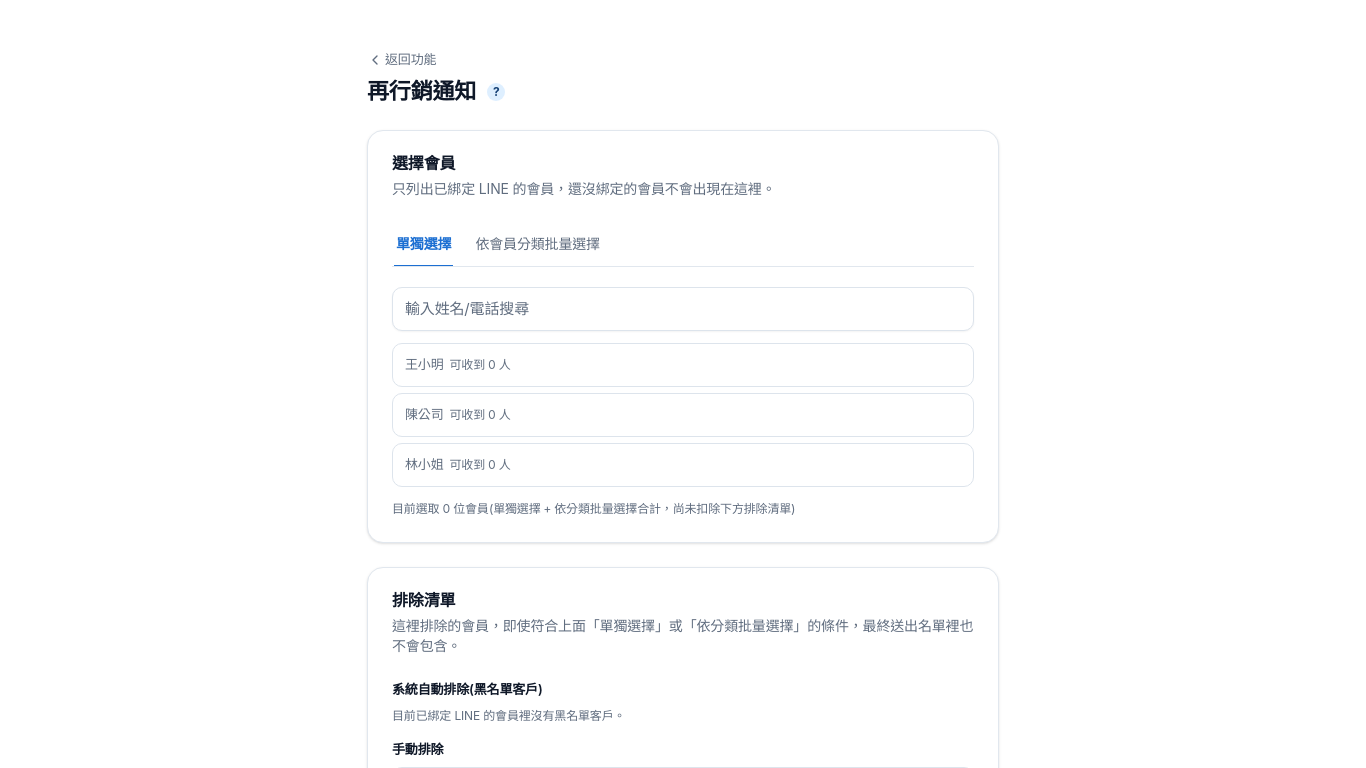
Test: C5-P01 再行銷通知頁 › 一則都不會發 ⇒ 確定鈕停用 + 常駐 ! 說原因
Click the text "王小明" at (424, 365), box top-left (405, 355), bottom-right (444, 374)
(page scrolled)
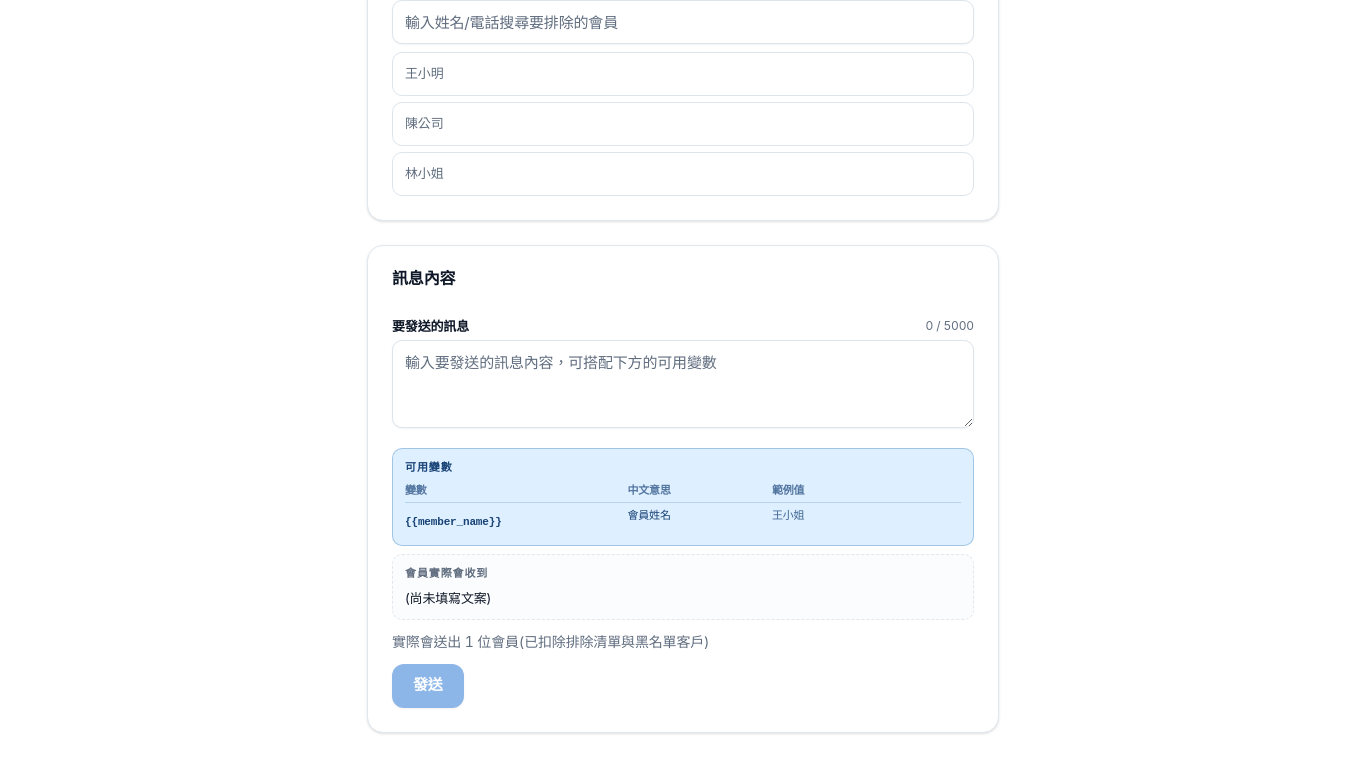
Type "週年慶" into the text box labelled "要發送的訊息" at (683, 384), box top-left (392, 340), bottom-right (974, 428)
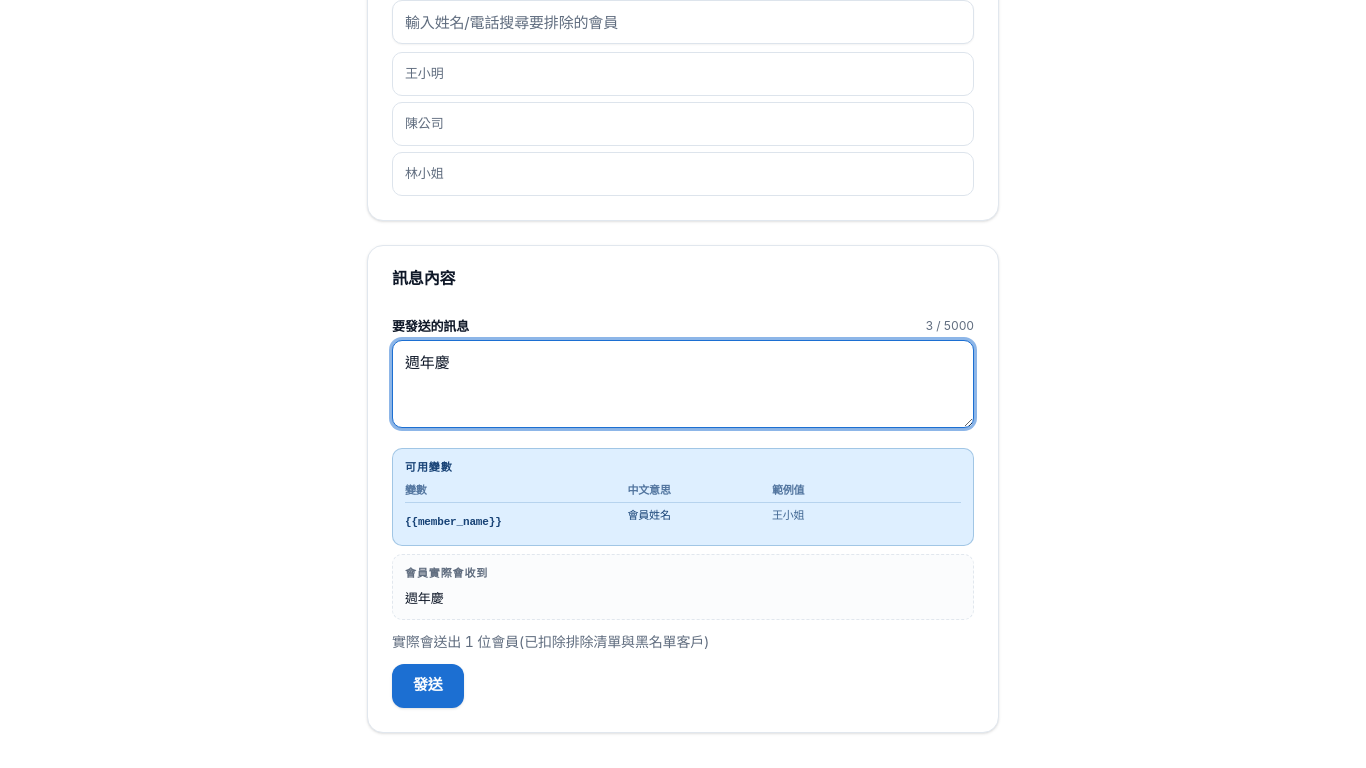
Click the button "發送" at (428, 686), box top-left (392, 664), bottom-right (464, 708)
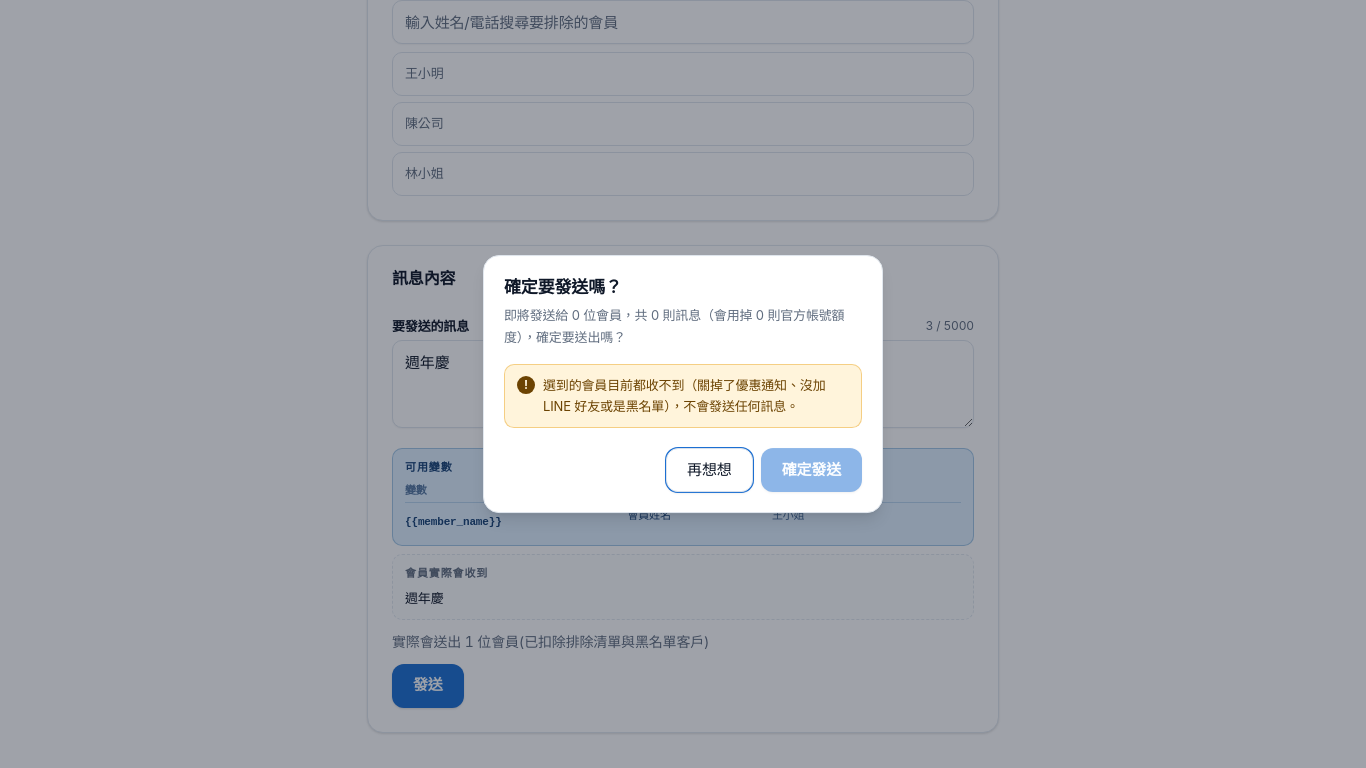
Expected: the element with test id "line-marketing-nobody" shows "選到的會員目前都收不到", top-left (543, 377), bottom-right (826, 414)
Expected: the button with test id "line-marketing-confirm-send" is disabled, top-left (761, 448), bottom-right (862, 492)
